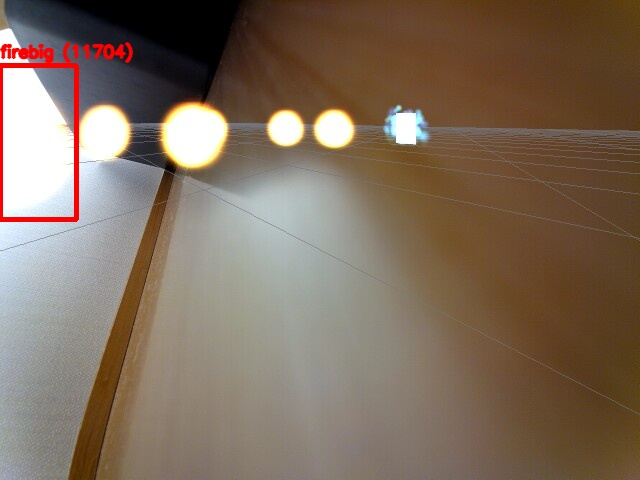firebig: (0, 65, 76, 219)
